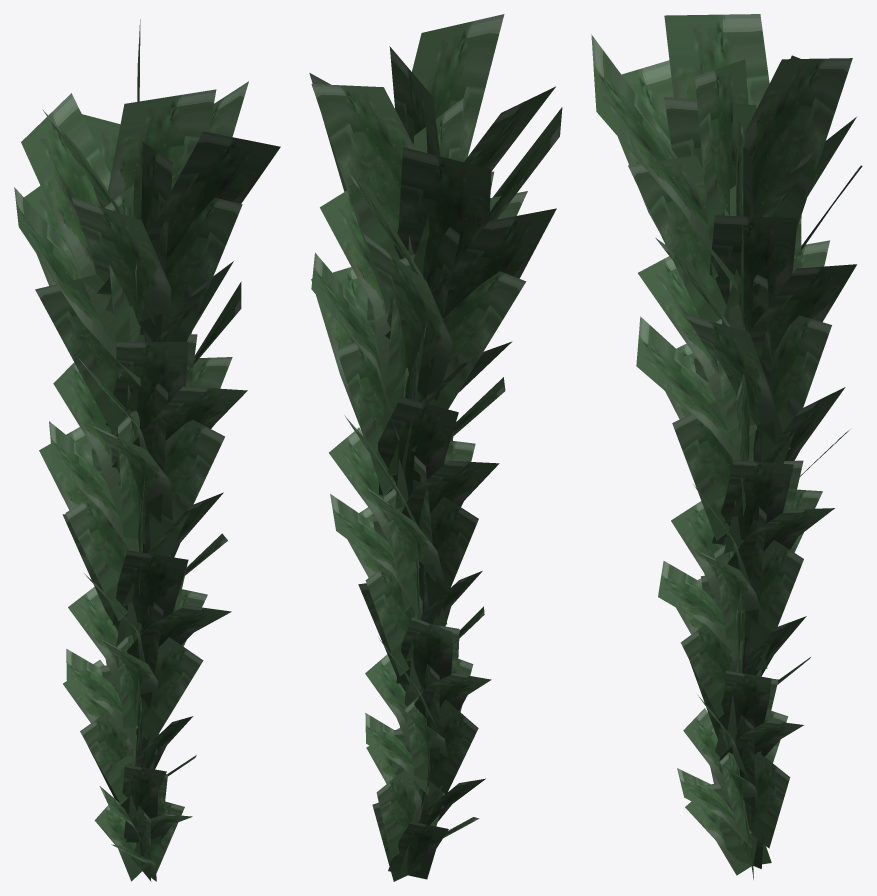
Rendered from SeaWeed02-transformed.glb.
The picture shows the model from 3 angles, left to right: view 1: azimuth 30°, elevation 25°; view 2: azimuth 150°, elevation 25°; view 3: azimuth 270°, elevation 25°; orthographic projection. The views are drawn at different scales.
Parts seen in each view (by area): view 1: SeaWeed02; view 2: SeaWeed02; view 3: SeaWeed02.
Part boxes in pixels (x1=…): SeaWeed02: x1=14, y1=19, x2=280, y2=881; SeaWeed02: x1=309, y1=14, x2=562, y2=881; SeaWeed02: x1=591, y1=14, x2=862, y2=879.
Size of the model in its own units: 0.2281 by 0.7498 by 0.2194.
Materials: 1 (1 with a texture image).
